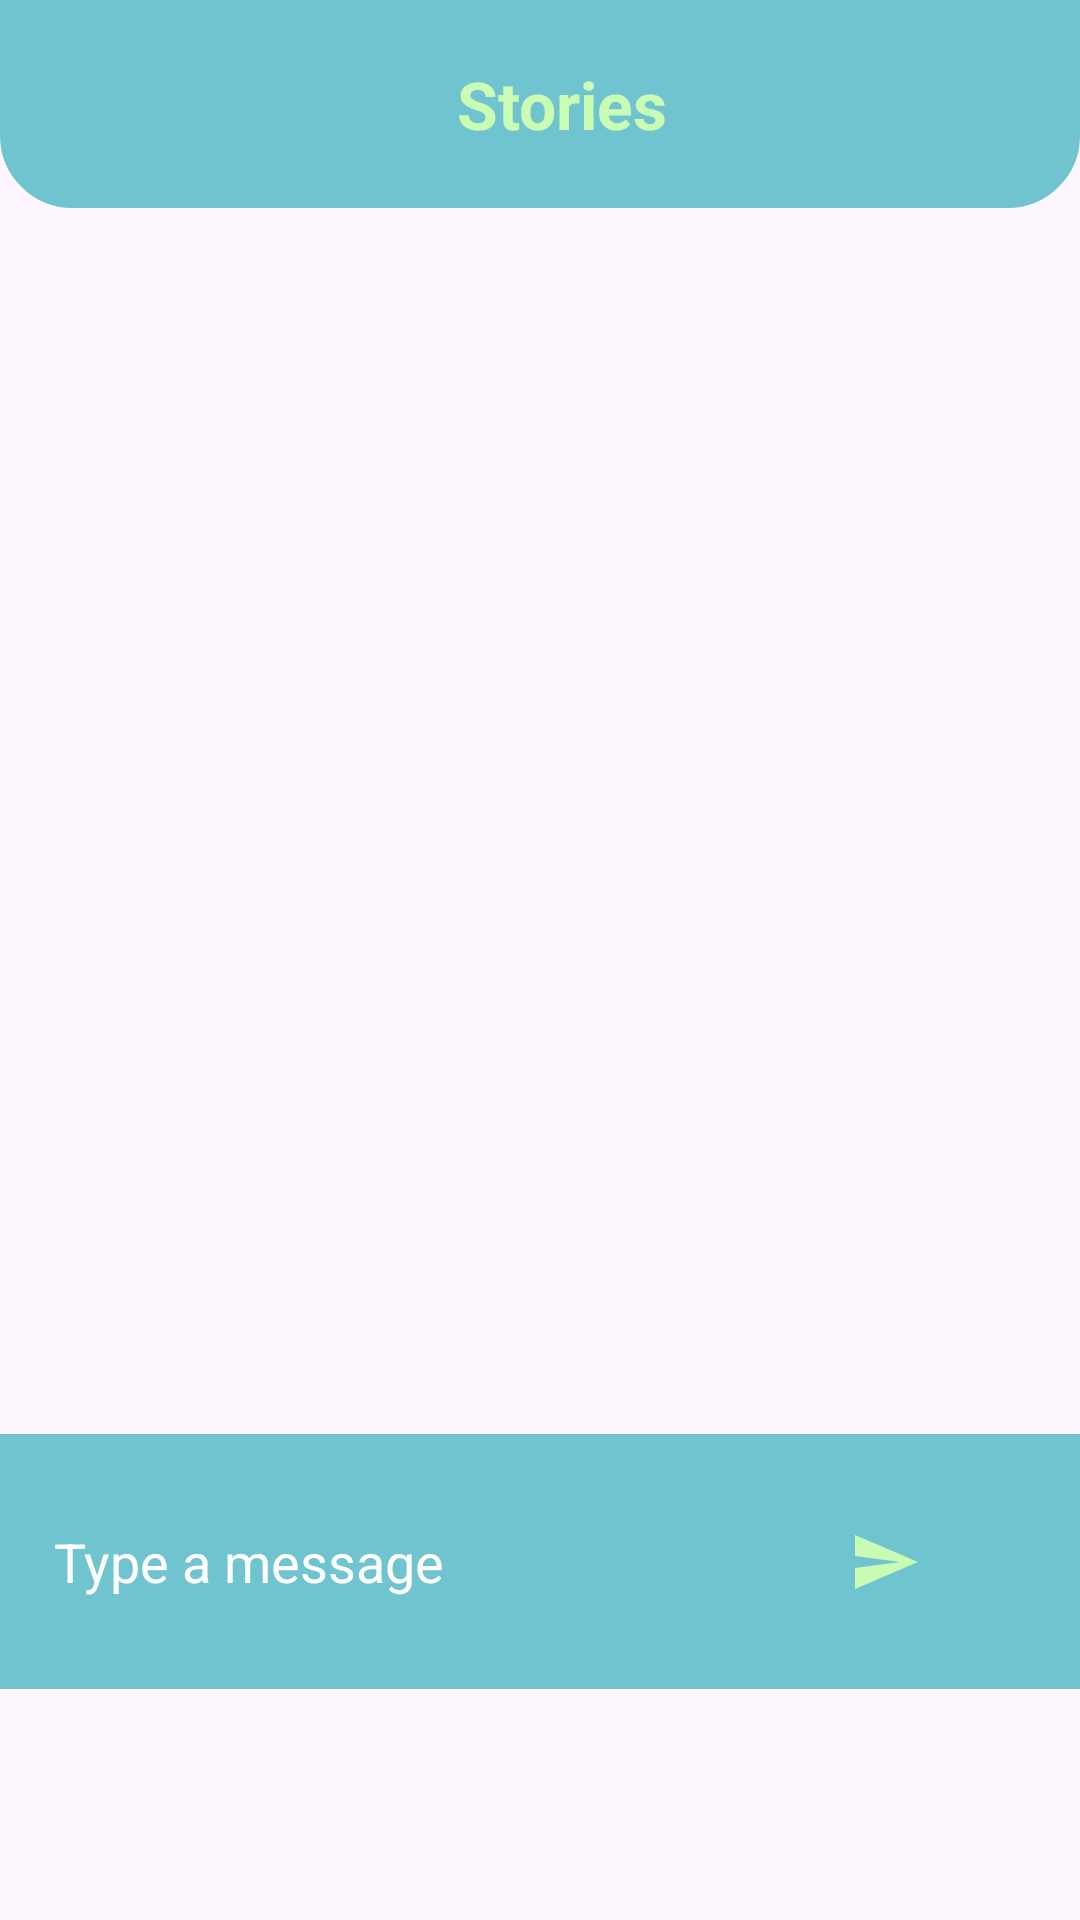

Icon click points for this 1080x1920 phone screenshot, format point (x, y):
Send: point (886, 1562)
